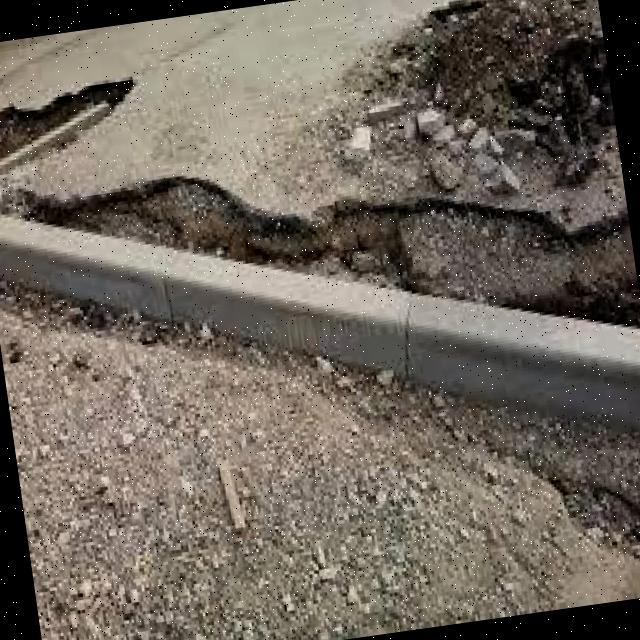curb: (1, 208, 640, 441)
